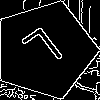L: (19, 25, 72, 79)
